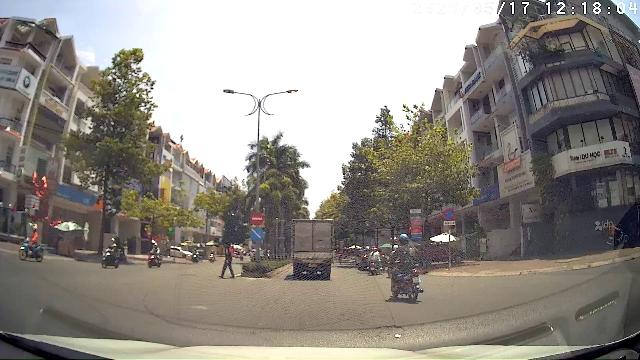102-cam-di-nguoc-chieu: (250, 212, 264, 226)
131a-cam-do-xe: (442, 208, 456, 220)
302a-huong-phai-di-vong-chuong-ngai-vat-1: (250, 226, 264, 242)
